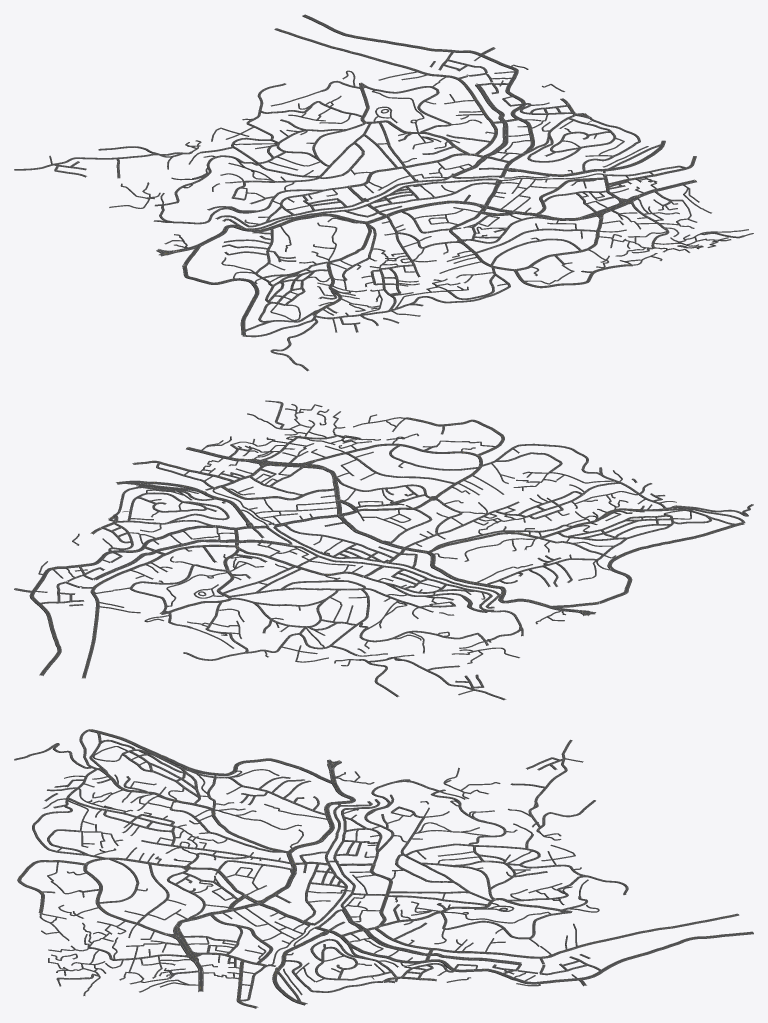
Rendered from osm_real_roads_T_W01_N00.glb.
The picture shows the model from 3 angles, top to bottom: view 1: azimuth 30°, elevation 25°; view 2: azimuth 150°, elevation 25°; view 3: azimuth 270°, elevation 25°; orthographic projection. The views are drawn at different scales.
Visible parts, largest first — view 1: OSM_Roads_T_W01_N00_taluy_embankment, OSM_Roads_T_W01_N00_asphalt_local, OSM_Roads_T_W01_N00_sidewalk_paver, OSM_Roads_T_W01_N00_asphalt_primary, OSM_Roads_T_W01_N00_granite_curb; view 2: OSM_Roads_T_W01_N00_taluy_embankment, OSM_Roads_T_W01_N00_asphalt_local, OSM_Roads_T_W01_N00_sidewalk_paver, OSM_Roads_T_W01_N00_asphalt_primary, OSM_Roads_T_W01_N00_granite_curb; view 3: OSM_Roads_T_W01_N00_asphalt_local, OSM_Roads_T_W01_N00_taluy_embankment, OSM_Roads_T_W01_N00_sidewalk_paver, OSM_Roads_T_W01_N00_asphalt_primary, OSM_Roads_T_W01_N00_granite_curb.
Boxes of the visible parts, left/top/right/bottom form: OSM_Roads_T_W01_N00_taluy_embankment: left=14, top=15, right=753, bottom=371; OSM_Roads_T_W01_N00_asphalt_local: left=14, top=28, right=753, bottom=370; OSM_Roads_T_W01_N00_sidewalk_paver: left=24, top=14, right=742, bottom=370; OSM_Roads_T_W01_N00_asphalt_primary: left=157, top=14, right=696, bottom=335; OSM_Roads_T_W01_N00_granite_curb: left=27, top=16, right=738, bottom=364; OSM_Roads_T_W01_N00_taluy_embankment: left=14, top=401, right=753, bottom=700; OSM_Roads_T_W01_N00_asphalt_local: left=14, top=400, right=752, bottom=699; OSM_Roads_T_W01_N00_sidewalk_paver: left=14, top=401, right=751, bottom=696; OSM_Roads_T_W01_N00_asphalt_primary: left=30, top=447, right=744, bottom=675; OSM_Roads_T_W01_N00_granite_curb: left=28, top=417, right=749, bottom=694; OSM_Roads_T_W01_N00_asphalt_local: left=14, top=729, right=738, bottom=1007; OSM_Roads_T_W01_N00_taluy_embankment: left=14, top=730, right=753, bottom=1008; OSM_Roads_T_W01_N00_sidewalk_paver: left=16, top=729, right=753, bottom=1007; OSM_Roads_T_W01_N00_asphalt_primary: left=90, top=729, right=753, bottom=1004; OSM_Roads_T_W01_N00_granite_curb: left=18, top=732, right=749, bottom=999.
Size of the model in its own units: 2340 by 107 by 2728.
Materials: 8 (6 with a texture image).
